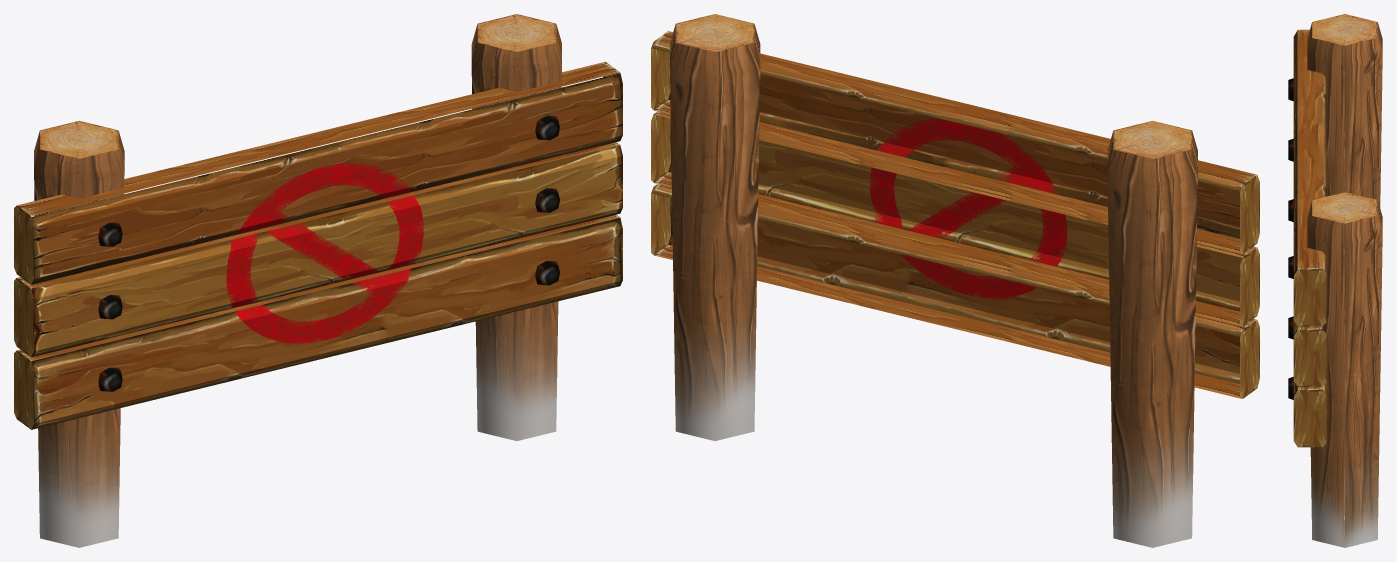
Rendered from Danger_Sign.FBX.
3 views of the same model, side by side, from view 1: azimuth 30°, elevation 25°; view 2: azimuth 150°, elevation 25°; view 3: azimuth 270°, elevation 25° (orthographic). The views are drawn at different scales.
Visible parts, largest first — view 1: Box207; view 2: Box207; view 3: Box207.
Part boxes in pixels (x1,y1,x2,y2): Box207: [14, 14, 622, 547]; Box207: [651, 14, 1259, 547]; Box207: [1288, 14, 1382, 547].
Size of the model in its own units: 215 by 136 by 35.86.
